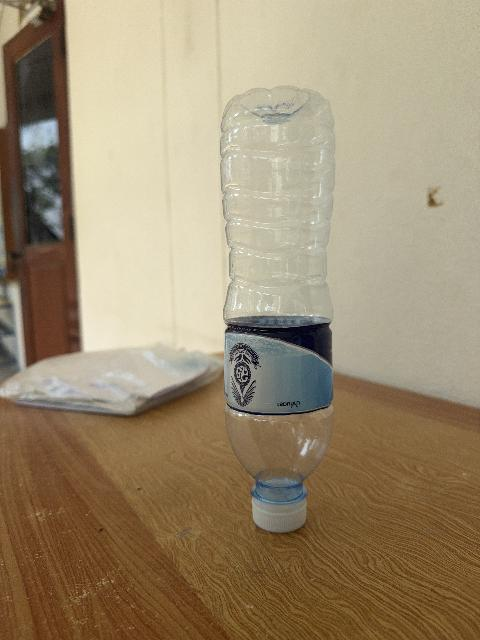bottle: (221, 87, 334, 532)
